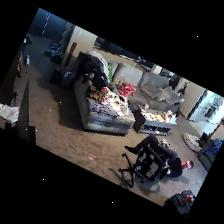person: (124, 134, 193, 177)
